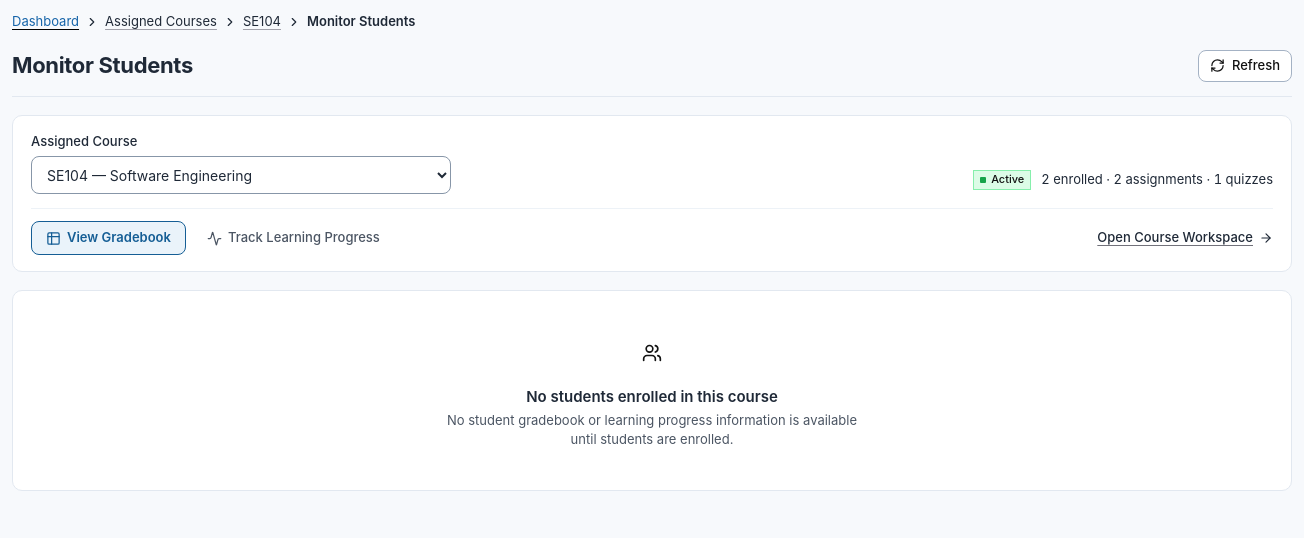
Test: I06: Instructor Monitor Students › handles Exception 3.1 (No Students Enrolled) and 6.1 (No Academic Data Available)
This screenshot has width=1304, height=538.
Expected: the heading "No students enrolled in this course" is shown, [526, 387, 778, 406]
Click the button "Refresh": click(1245, 66) [1198, 50, 1292, 82]
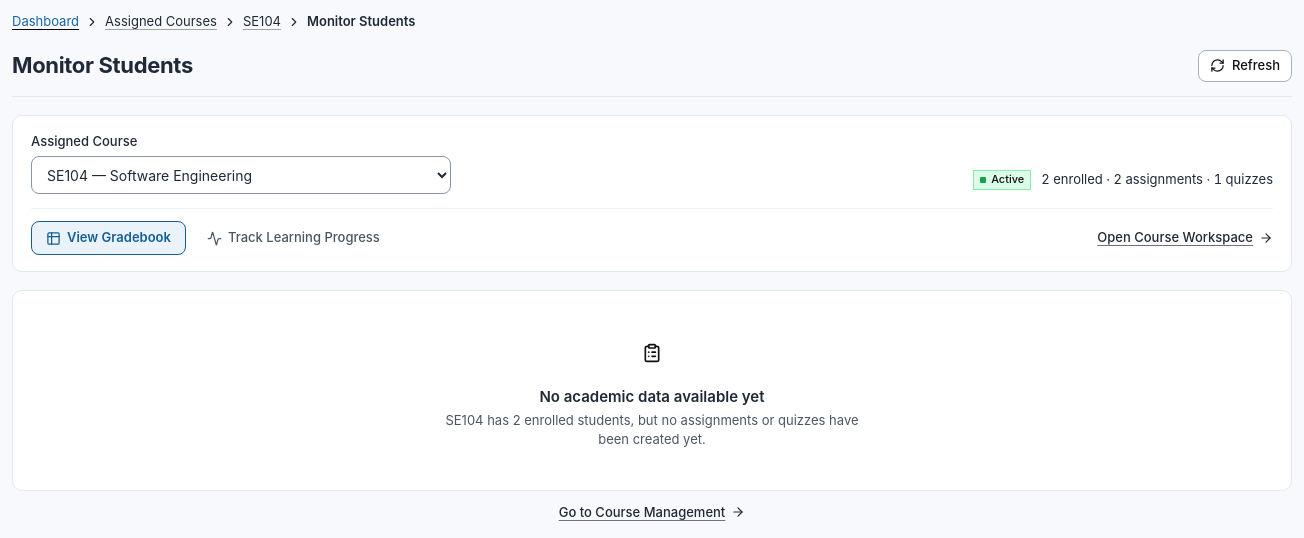
Expected: the heading "No academic data available yet" is shown, [539, 387, 764, 406]
